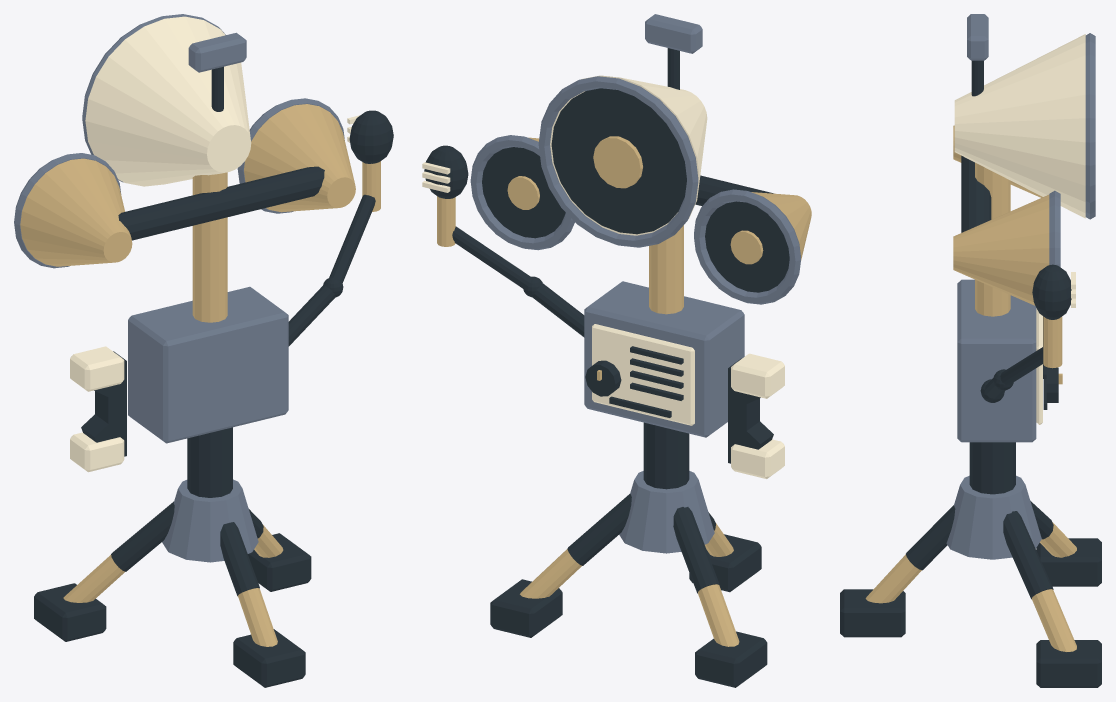
The picture shows the model from 3 angles, left to right: view 1: azimuth 30°, elevation 25°; view 2: azimuth 150°, elevation 25°; view 3: azimuth 270°, elevation 25°; orthographic projection.
Parts seen in each view (by area): view 1: main_horn_shell, control_box, left_horn_shell, right_horn_shell, speaker_crossbar, tripod_hub, mast_column, mast_lower, tripod_0_shoe, tripod_2_shoe, tripod_1_shoe, hanging_handset (+14 smaller); view 2: main_horn_mouth, control_box, main_horn_mouth_rim, control_face, left_horn_mouth, tripod_hub, right_horn_mouth, left_horn_mouth_rim, tripod_0_shoe, right_horn_mouth_rim, mast_lower, tripod_1_shoe (+21 smaller); view 3: main_horn_shell, control_box, right_horn_shell, tripod_hub, tripod_1_shoe, tripod_2_shoe, tripod_0_shoe, mast_lower, mast_column, tripod_1_upper, main_horn_mouth_rim, microphone_capsule (+13 smaller).
Part boxes in pixels (x1,y1,x2,y2): main_horn_shell: (85,16,251,186); control_box: (128,286,288,443); left_horn_shell: (20,158,132,266); right_horn_shell: (244,104,355,212); speaker_crossbar: (118,166,324,240); tripod_hub: (162,479,258,562); mast_column: (192,172,227,322); mast_lower: (187,427,232,497); tripod_0_shoe: (34,583,106,641); tripod_2_shoe: (233,629,305,687); tripod_1_shoe: (248,533,311,591); hanging_handset: (81,351,126,456); main_horn_mouth: (551,88,686,234); control_box: (584,281,744,437); main_horn_mouth_rim: (538,76,698,247); control_face: (592,324,694,425); left_horn_mouth: (705,201,789,292); tripod_hub: (619,471,714,553); right_horn_mouth: (482,147,565,238); left_horn_mouth_rim: (694,189,800,304); tripod_0_shoe: (695,631,767,687); right_horn_mouth_rim: (470,135,574,250); mast_lower: (643,422,689,489); tripod_1_shoe: (490,579,562,637); main_horn_shell: (954,34,1085,218); control_box: (957,279,1036,442); right_horn_shell: (953,194,1049,305); tripod_hub: (946,475,1041,559); tripod_1_shoe: (1036,640,1101,687); tripod_2_shoe: (840,589,905,637); tripod_0_shoe: (1036,538,1101,586); mast_lower: (969,442,1015,494); mast_column: (975,162,1010,316); tripod_1_upper: (1003,511,1053,599); main_horn_mouth_rim: (1085,33,1095,219); microphone_capsule: (1032,264,1071,319).
Size of the model in its own units: 1.62 by 2.44 by 0.96.
